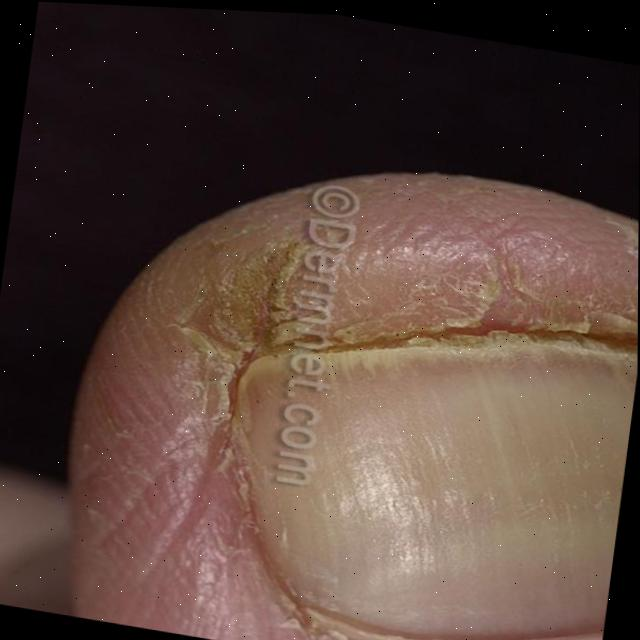Eczema: (106, 155, 639, 640)
